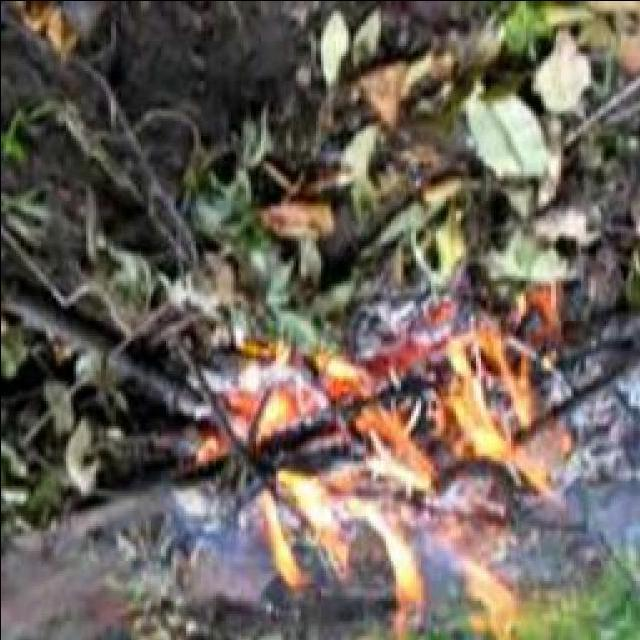Fire: (216, 336, 584, 626)
